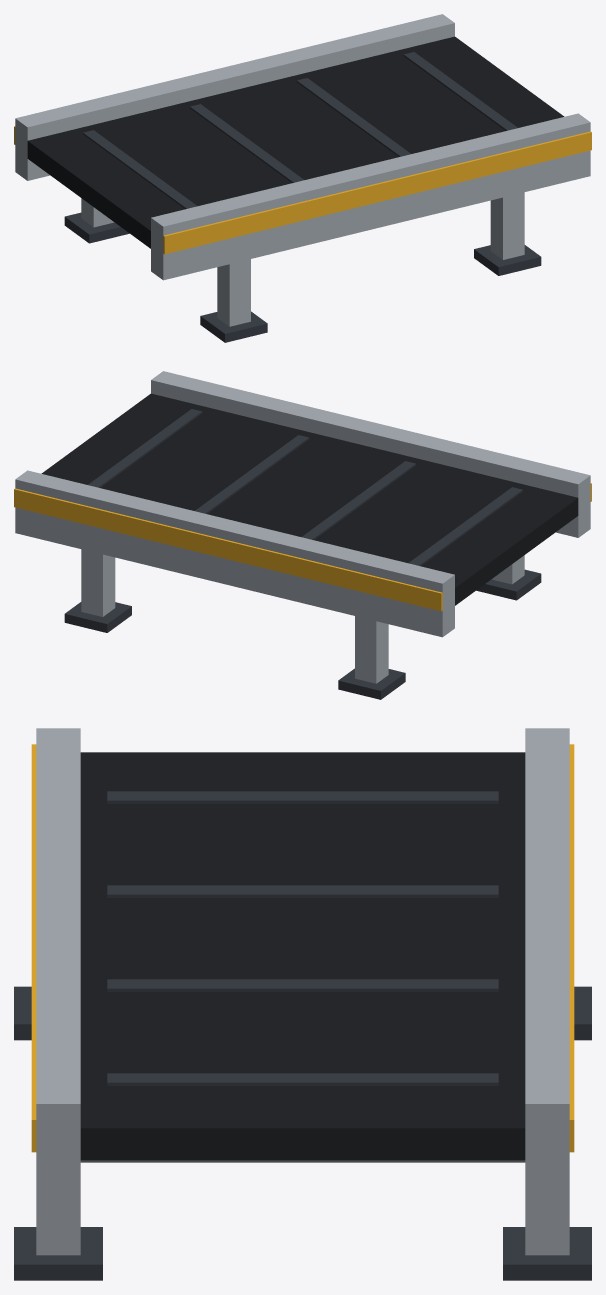
Rendered from conveyor_straight.glb.
3 renders of one model, top to bottom at view 1: azimuth 30°, elevation 25°; view 2: azimuth 150°, elevation 25°; view 3: azimuth 270°, elevation 25°, orthographic. The views are drawn at different scales.
Parts seen in each view (by area): view 1: conveyor_straight; view 2: conveyor_straight; view 3: conveyor_straight.
Part boxes in pixels (<box>): conveyor_straight: <box>14,14,591,342</box>; conveyor_straight: <box>14,371,591,699</box>; conveyor_straight: <box>14,728,591,1280</box>.
Size of the model in its own units: 1 by 0.28 by 0.65.
